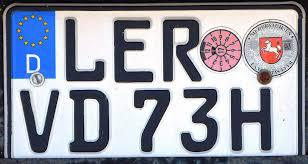3: (178, 86, 222, 153)
7: (132, 88, 171, 152)
D: (69, 89, 110, 153)
E: (109, 17, 156, 83)
H: (229, 87, 273, 152)
L: (64, 18, 105, 81)
R: (159, 19, 202, 82)
V: (18, 90, 60, 154)
